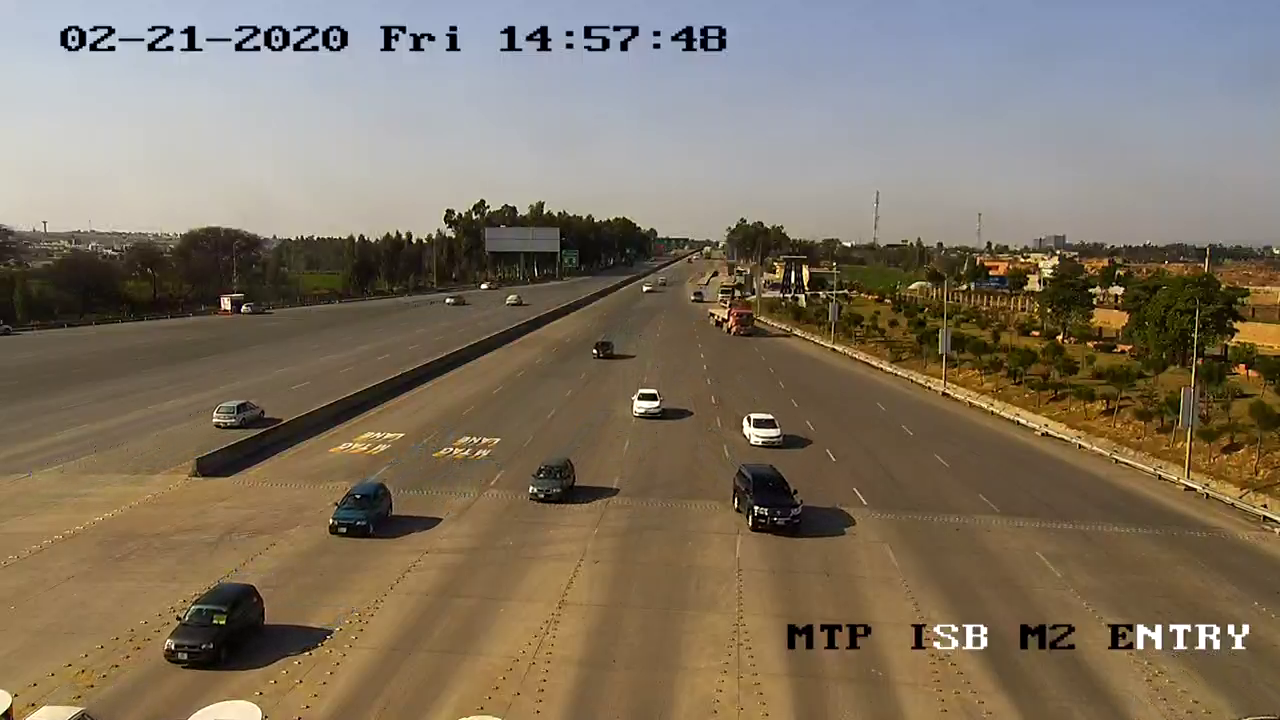f1: (155, 574, 277, 674), (722, 457, 812, 542), (319, 474, 404, 552), (521, 446, 586, 515), (731, 401, 792, 451), (622, 381, 669, 426)
